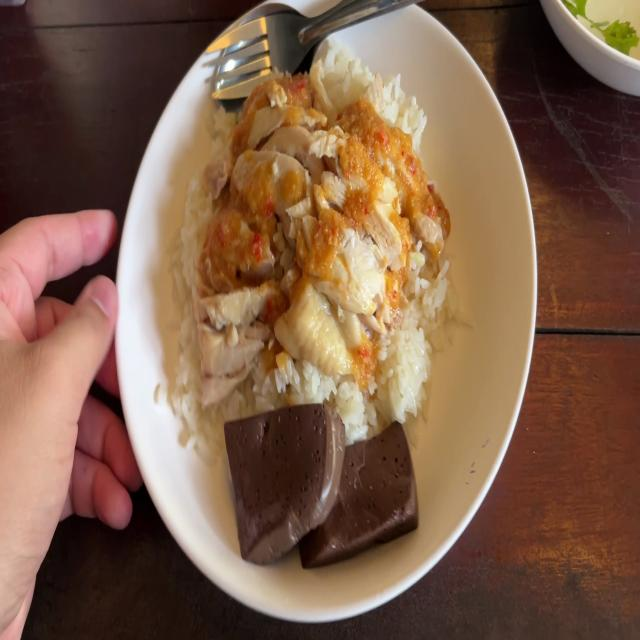boiled_chicken: (230, 70, 380, 380)
boiled_chicken_blood_jelly: (223, 394, 342, 555), (298, 426, 418, 562)
chicken_rice: (170, 54, 463, 580)
